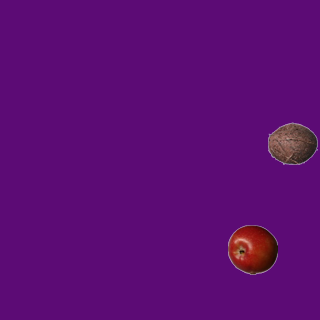Apple Braeburn: (227, 224, 277, 274)
Cocos: (267, 118, 317, 168)
